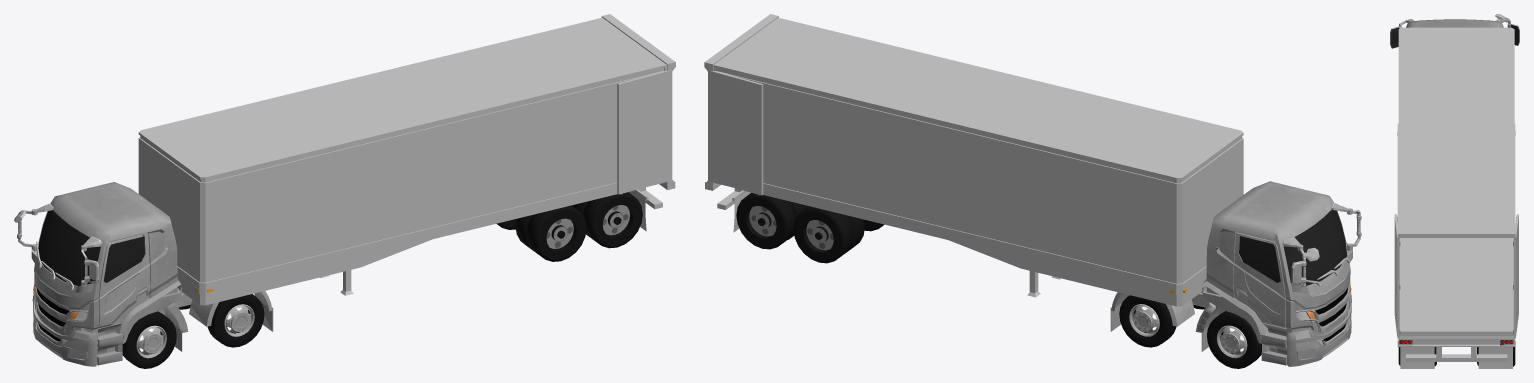
The model's file is Truck.fbx.
3 renders of one model, left to right at view 1: azimuth 30°, elevation 25°; view 2: azimuth 150°, elevation 25°; view 3: azimuth 270°, elevation 25°, orthographic. The views are drawn at different scales.
Parts seen in each view (by area): view 1: Truck, Tir, Door_02; view 2: Truck, Tir, Door_01; view 3: Truck, Tir, Door_02, Door_01.
Part boxes in pixels (x1,y1,x2,y2): Truck: [138, 14, 675, 305]; Tir: [14, 182, 273, 368]; Door_02: [617, 70, 671, 194]; Truck: [704, 14, 1243, 306]; Tir: [1110, 181, 1361, 368]; Door_01: [708, 70, 763, 195]; Truck: [1397, 27, 1515, 368]; Tir: [1390, 14, 1519, 48]; Door_02: [1394, 214, 1400, 336]; Door_01: [1513, 214, 1518, 336].
Bounding box in the file's own units: 1442 × 412 × 299.
